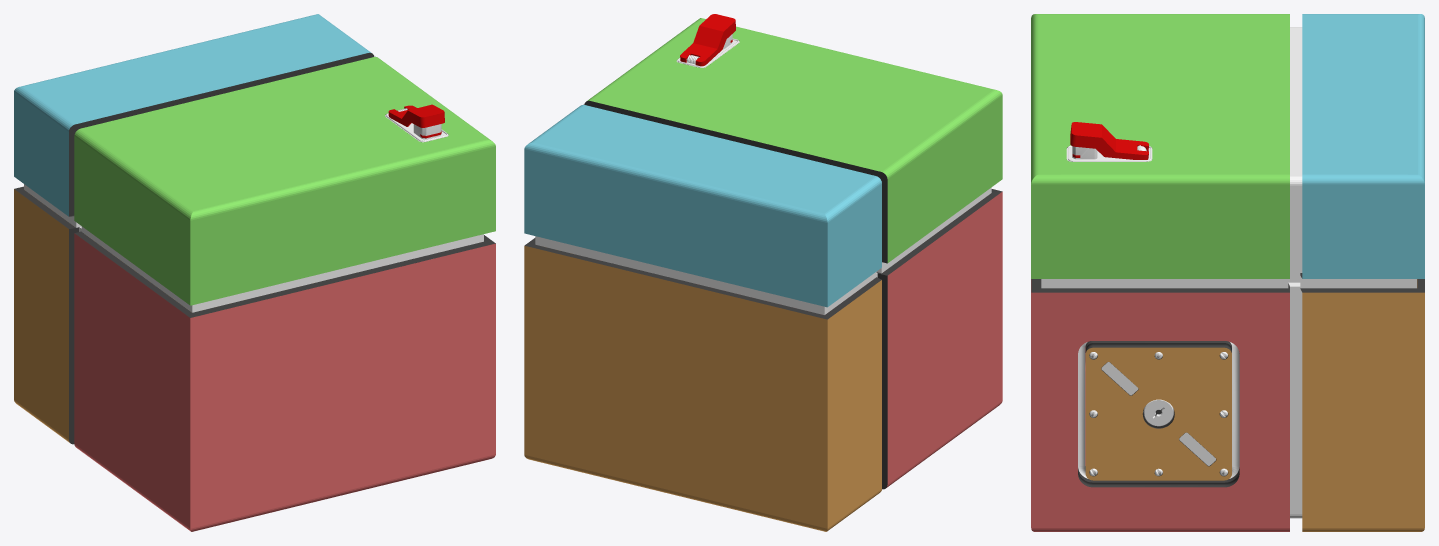
The model's file is noodle1_d.gltf.
The picture shows the model from 3 angles, left to right: view 1: azimuth 30°, elevation 25°; view 2: azimuth 150°, elevation 25°; view 3: azimuth 270°, elevation 25°; orthographic projection. The views are drawn at different scales.
Visible parts, largest first — view 1: Cube, red_switch; view 2: Cube, red_switch; view 3: Cube, red_switch, round_disc.
Boxes of the visible parts, x1,y1,x2,y2 form: Cube: [14, 14, 495, 531]; red_switch: [388, 104, 444, 127]; Cube: [524, 18, 1002, 531]; red_switch: [680, 14, 735, 66]; Cube: [1031, 14, 1424, 531]; red_switch: [1070, 122, 1148, 159]; round_disc: [1143, 399, 1173, 426].
Bounding box in the file's own units: 2 × 2.14 × 2.
